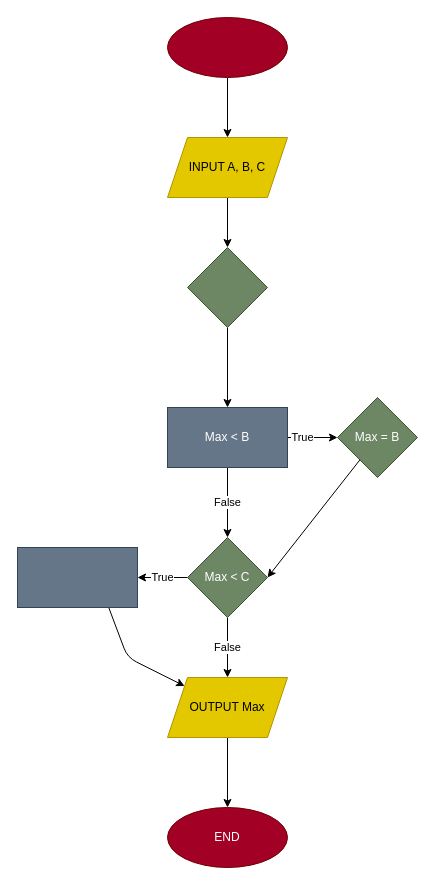
The diagram is 435 pixels wide and 885 high, and some of its shapes have lost their labels. Each missing label, with the centre of its shape:
"Max = A" belongs at (x=227, y=287).
"Max = C" belongs at (x=77, y=577).
"START" belongs at (x=227, y=47).
